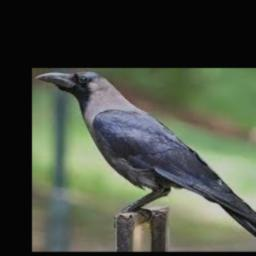Crow: (34, 72, 256, 248)
